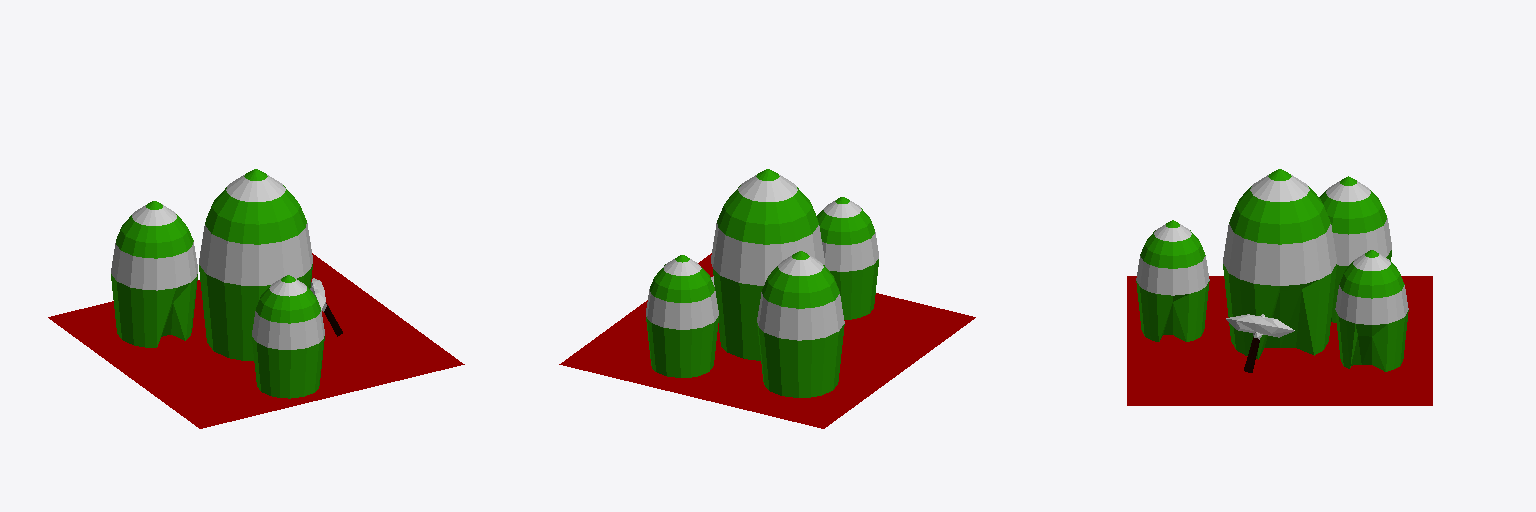
The model's file is GiantLiar.obj.
3 renders of one model, left to right at view 1: azimuth 30°, elevation 25°; view 2: azimuth 150°, elevation 25°; view 3: azimuth 270°, elevation 25°, orthographic.
Visible parts, largest first — view 1: Plane.004, Plane, Plane.003, Plane.002; view 2: Plane.004, Plane, Plane.003, Plane.001, Plane.002; view 3: Plane.004, Plane, Plane.002, Plane.001, Plane.003, Cube.001_Cube.002.
Boxes of the visible parts, box(x1,y1,x2,y2) form: Plane.004: box(48, 253, 464, 428); Plane: box(199, 169, 312, 360); Plane.003: box(111, 201, 197, 347); Plane.002: box(252, 275, 324, 398); Plane.004: box(559, 253, 975, 428); Plane: box(711, 169, 824, 360); Plane.003: box(757, 251, 844, 397); Plane.001: box(646, 255, 718, 377); Plane.002: box(817, 197, 878, 319); Plane.004: box(1127, 276, 1432, 405); Plane: box(1223, 169, 1336, 359); Plane.002: box(1136, 220, 1209, 341); Plane.001: box(1335, 250, 1408, 371); Plane.003: box(1319, 176, 1391, 322); Cube.001_Cube.002: box(1226, 314, 1294, 372).
Size of the model in its own units: 1.25 by 0.7797 by 1.25.